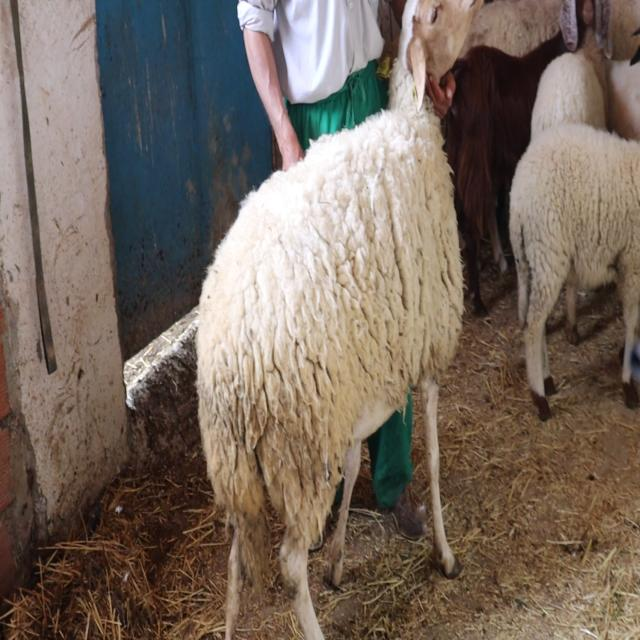Score_5: (196, 0, 482, 639)
